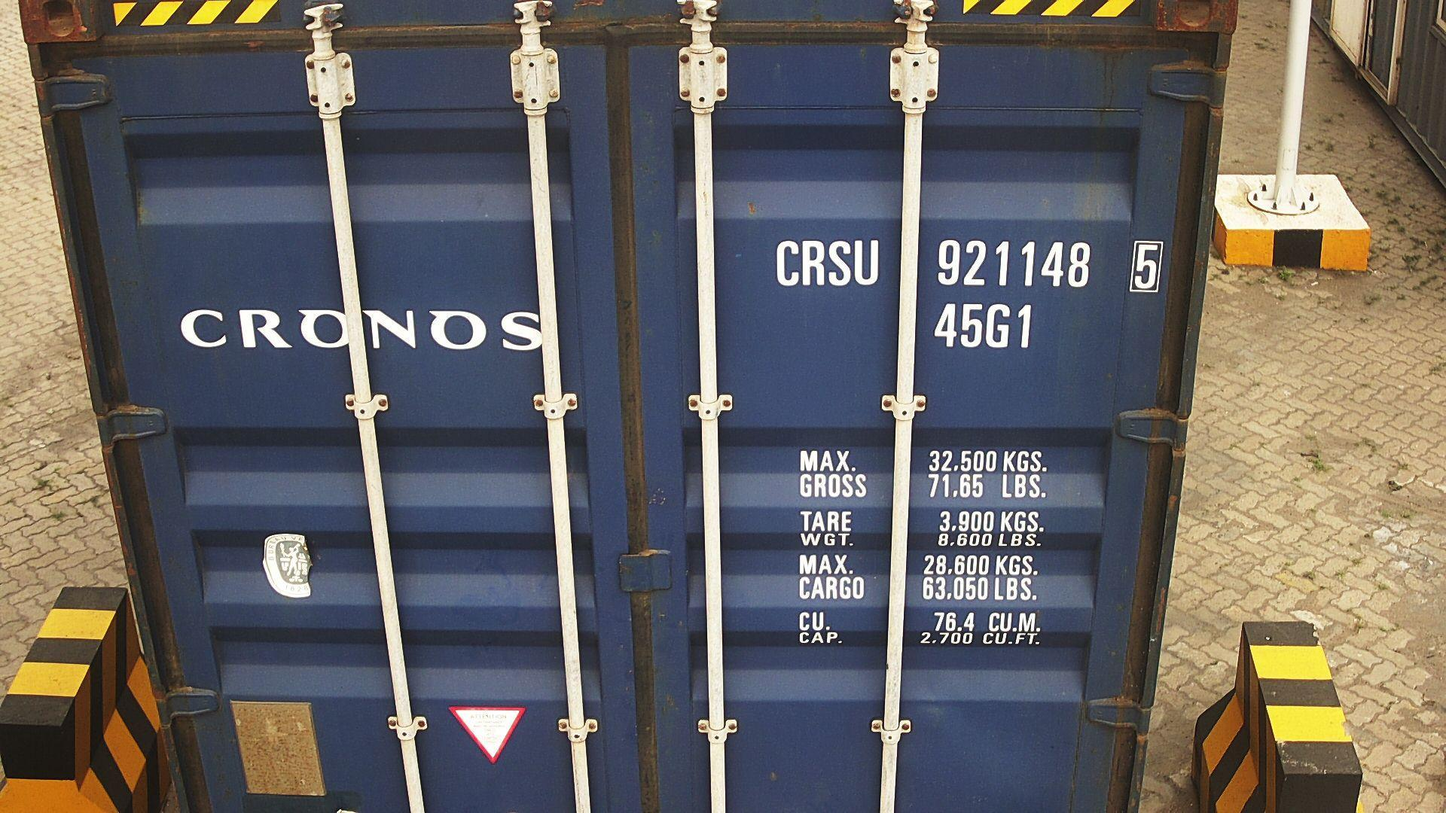container-numbers: (770, 236, 1168, 299), (930, 300, 1037, 353)
